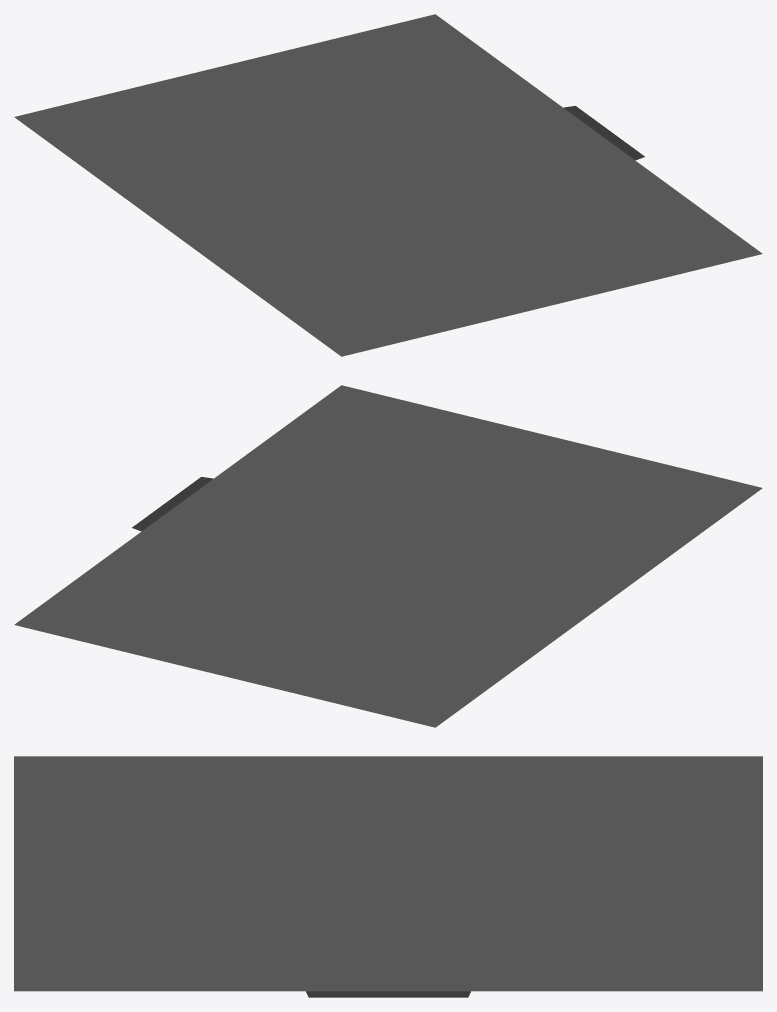
File: Stowaway_Floor.fbx
3 views of the same model, one above another, from view 1: azimuth 30°, elevation 25°; view 2: azimuth 150°, elevation 25°; view 3: azimuth 270°, elevation 25° (orthographic). The views are drawn at different scales.
Parts seen in each view (by area): view 1: Stowaway_Floor; view 2: Stowaway_Floor; view 3: Stowaway_Floor.
Part boxes in pixels (bbox=[...]): Stowaway_Floor: bbox=[14, 14, 762, 356]; Stowaway_Floor: bbox=[14, 385, 762, 727]; Stowaway_Floor: bbox=[14, 756, 762, 997].
Bounding box in the file's own units: 29.68 × 0 × 38.9.
